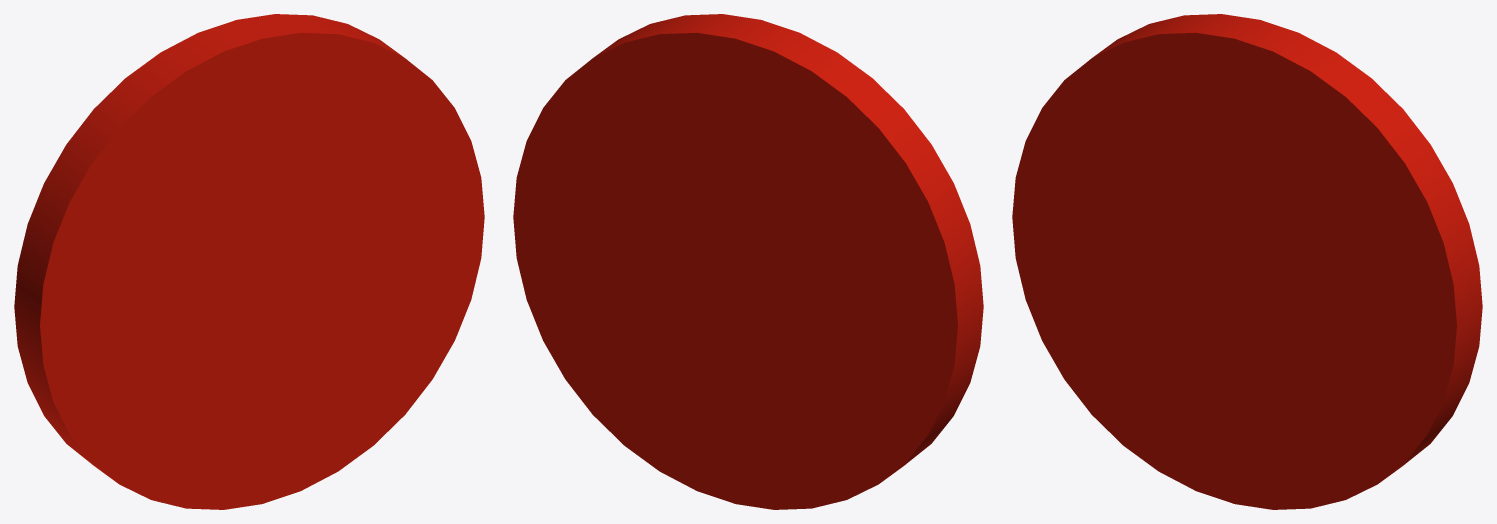
File: oggetto0.fbx
3 renders of one model, left to right at view 1: azimuth 30°, elevation 25°; view 2: azimuth 150°, elevation 25°; view 3: azimuth 330°, elevation 25°, orthographic.
Parts seen in each view (by area): view 1: Cylinder; view 2: Cylinder; view 3: Cylinder.
Part boxes in pixels (x1,y1,x2,y2): Cylinder: (14,14,484,509); Cylinder: (513,14,983,509); Cylinder: (1012,14,1482,509).
Size of the model in its own units: 200 by 200 by 20.
